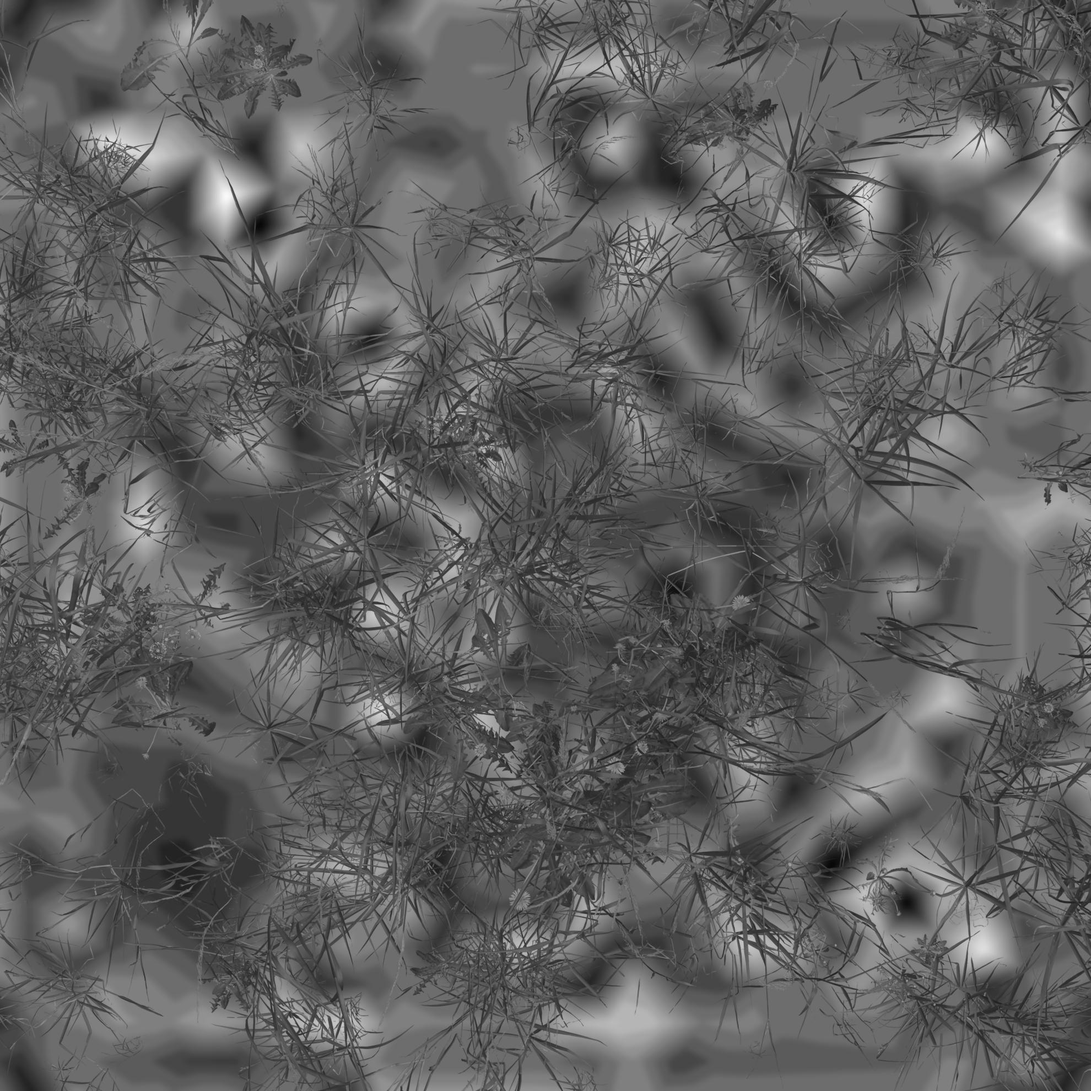landmine: (625, 548, 725, 636), (133, 827, 222, 911)
